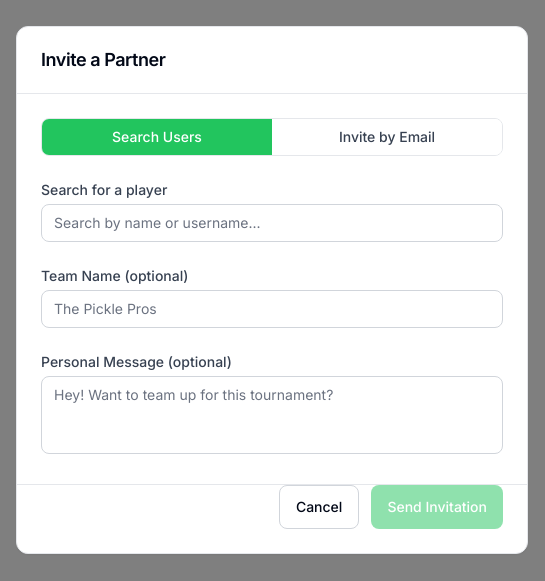
Test: PartnerInviteModal › Mode Tabs › switches to email invite mode when tab is clicked
The width and height of the screenshot is (545, 581).
Click the button "Invite by Email" at coordinates (387, 137), box x1=272 y1=119 x2=502 y2=155
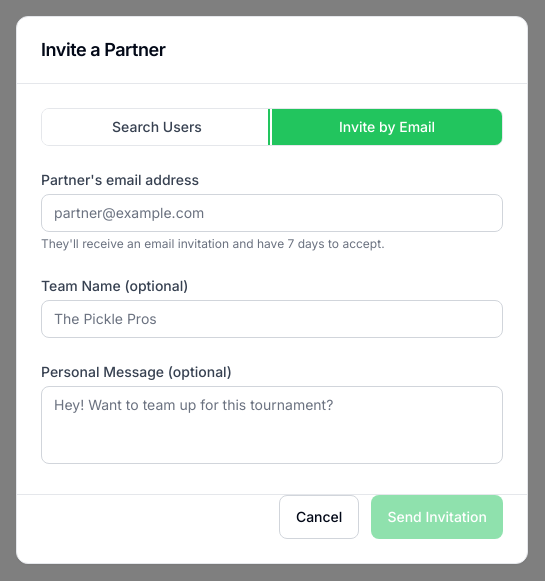
Expected: the field labelled "Partner's email address" is shown, x1=41 y1=194 x2=503 y2=232
